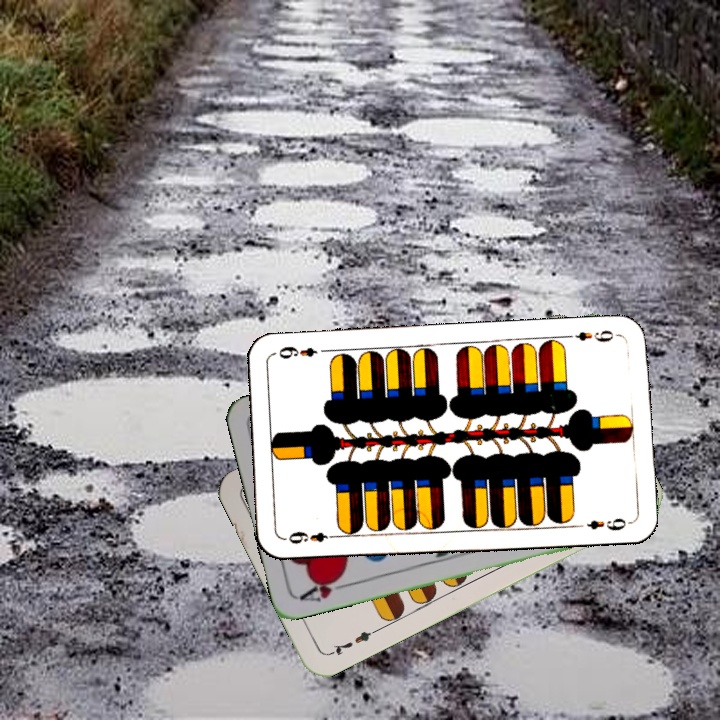E7: (325, 625, 380, 658)
E9: (282, 527, 341, 547), (562, 326, 621, 345)
HA: (296, 570, 354, 605)
